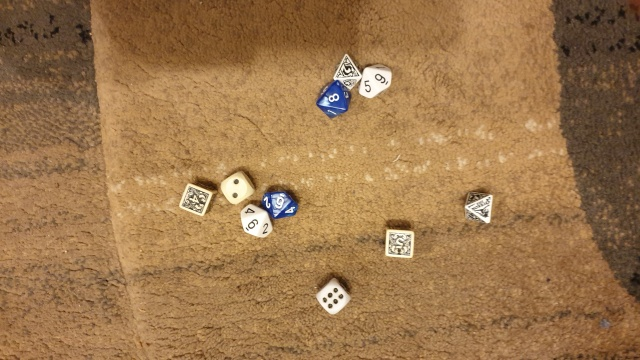d10-6: (234, 202, 273, 241), (260, 187, 299, 220)
d10-8: (316, 80, 355, 120)
d10-9: (355, 60, 394, 100)
d6-2: (219, 169, 256, 204)
d6-6: (311, 274, 355, 316)
d6p-4: (177, 179, 216, 219)
d6p-5: (381, 227, 418, 261)
d8p-1: (462, 185, 498, 227)
d8p-2: (334, 50, 360, 91)
